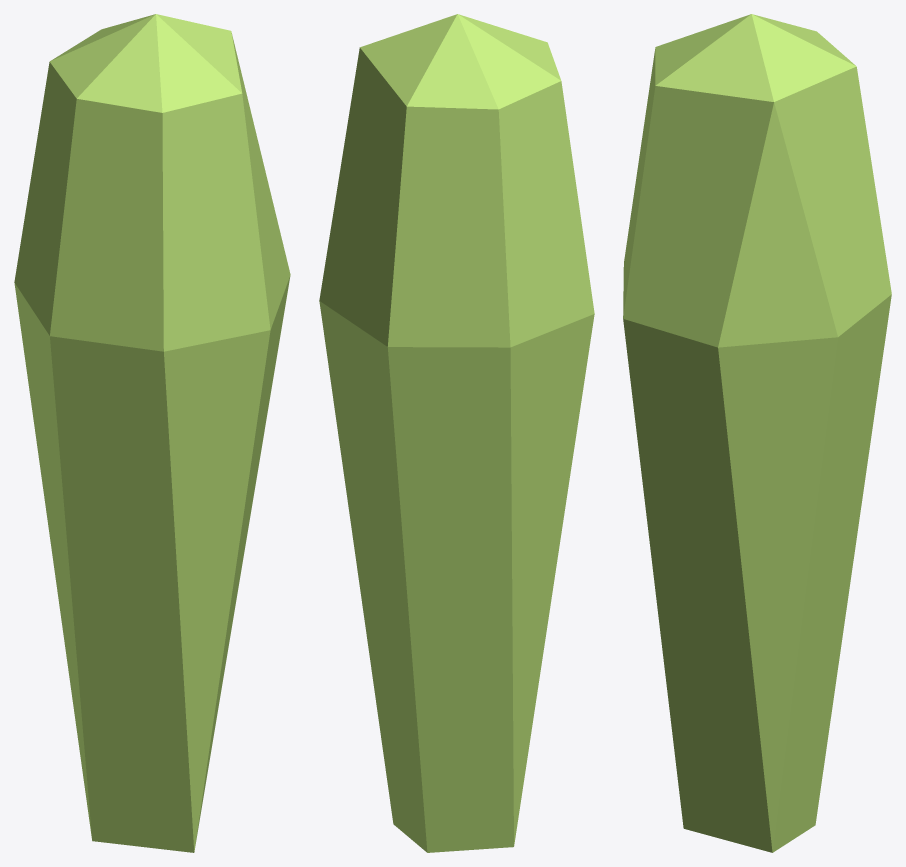
The model's file is Cactus_a_m_BT_01.fbx.
3 renders of one model, left to right at view 1: azimuth 30°, elevation 25°; view 2: azimuth 150°, elevation 25°; view 3: azimuth 270°, elevation 25°, orthographic.
Parts seen in each view (by area): view 1: Cactus_a_m_BT_01; view 2: Cactus_a_m_BT_01; view 3: Cactus_a_m_BT_01.
Part boxes in pixels (box(x1,y1,x2,y2)): Cactus_a_m_BT_01: box(14, 14, 290, 852); Cactus_a_m_BT_01: box(319, 14, 594, 852); Cactus_a_m_BT_01: box(623, 14, 891, 852).
Bounding box in the file's own units: 62.24 × 203 × 60.71.
